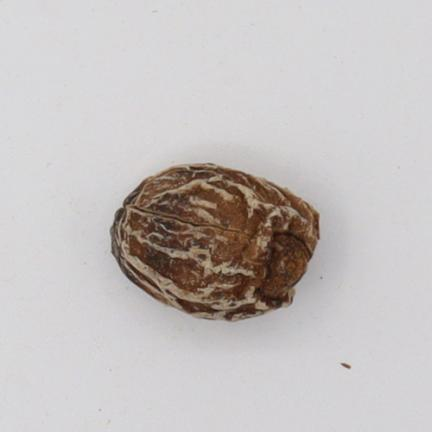full-black: (111, 164, 319, 321)
